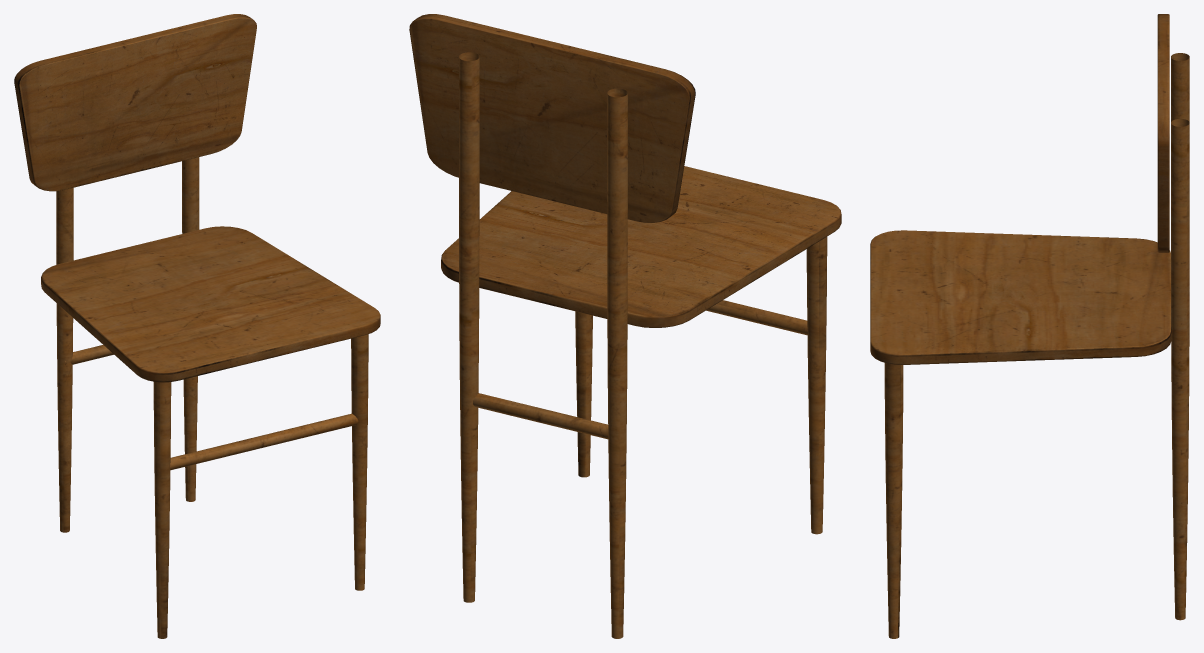
Rendered from chair.fbx.
The picture shows the model from 3 angles, left to right: view 1: azimuth 30°, elevation 25°; view 2: azimuth 150°, elevation 25°; view 3: azimuth 270°, elevation 25°; orthographic projection. The views are drawn at different scales.
Parts seen in each view (by area): view 1: Chair; view 2: Chair; view 3: Chair.
Boxes of the visible parts, x1=… form: Chair: x1=14, y1=14, x2=380, y2=638; Chair: x1=409, y1=14, x2=841, y2=638; Chair: x1=870, y1=14, x2=1189, y2=638.
Size of the model in its own units: 62.68 by 121 by 67.76.
